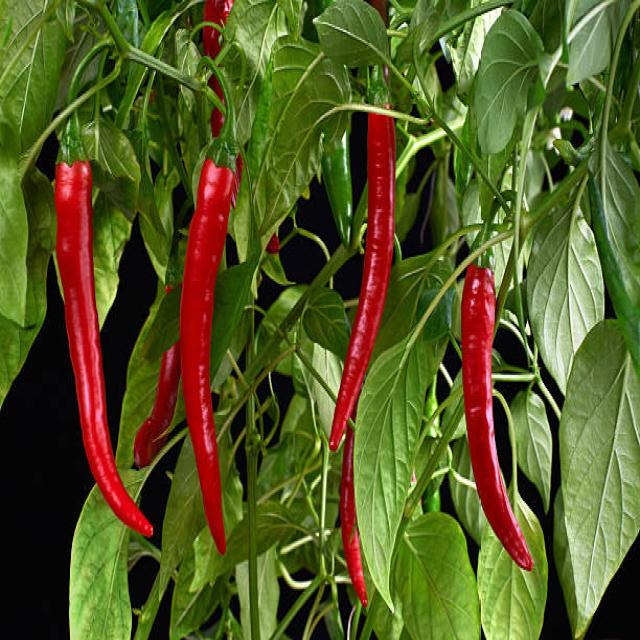Ripe: (54, 161, 154, 538), (461, 265, 534, 573), (179, 160, 234, 554), (329, 113, 393, 450), (340, 426, 366, 605)
